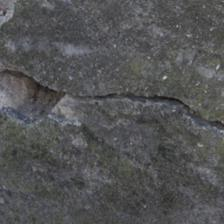Crack: (1, 78, 68, 145), (32, 124, 99, 169)
